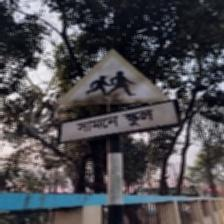School-in-front: (56, 48, 179, 146)
